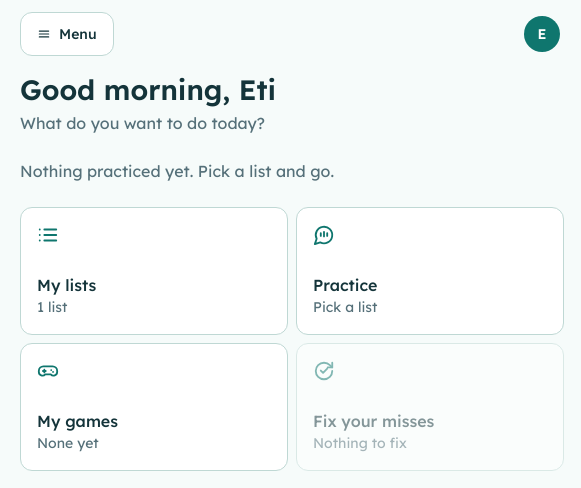
the owner deleting a shared list › removes it on OK
The width and height of the screenshot is (581, 488).
Click the button "Menu" at (67, 34), box [20,12,114,56]
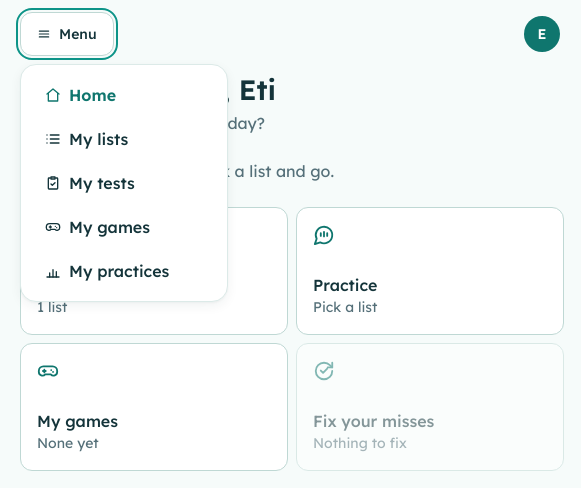
Click the menu item "My lists" at (124, 139), box [29,117,219,161]
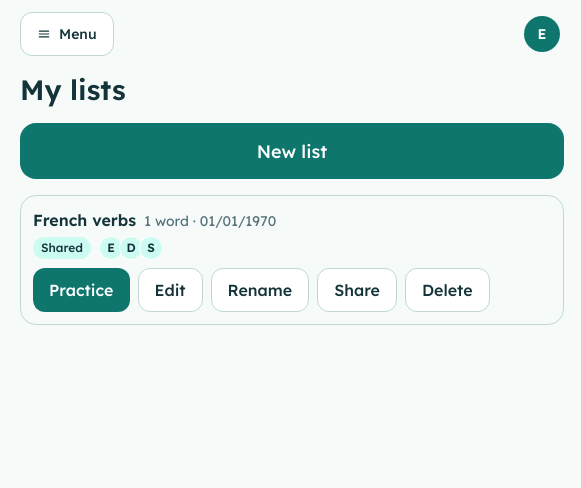
Click the button "Delete" at (447, 290), box [405,268,490,312]
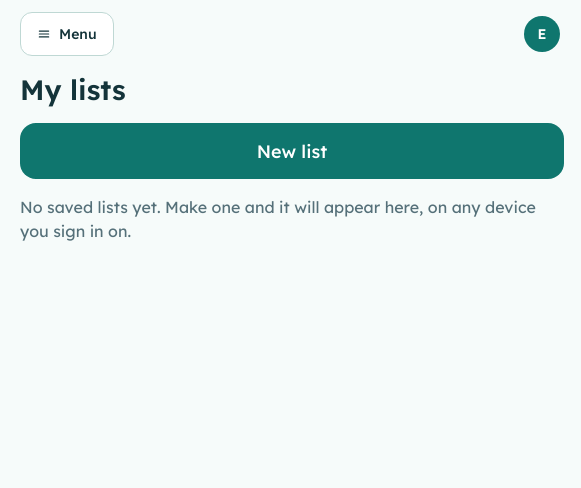
Now the text "French verbs" is gone
